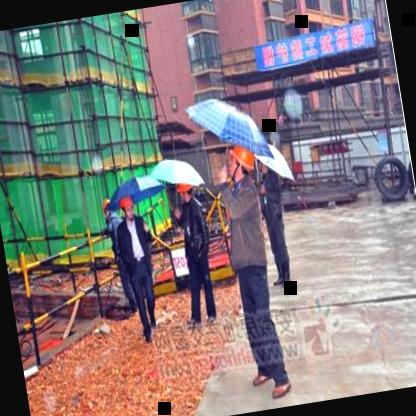helmet: (223, 143, 259, 186), (173, 176, 194, 206), (117, 192, 137, 223), (98, 192, 115, 221)
